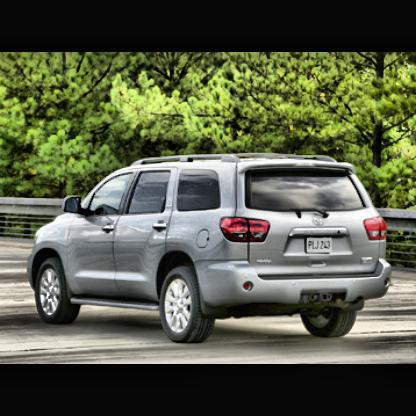Toyota Sequoia SUV 2012: (29, 150, 397, 344)
